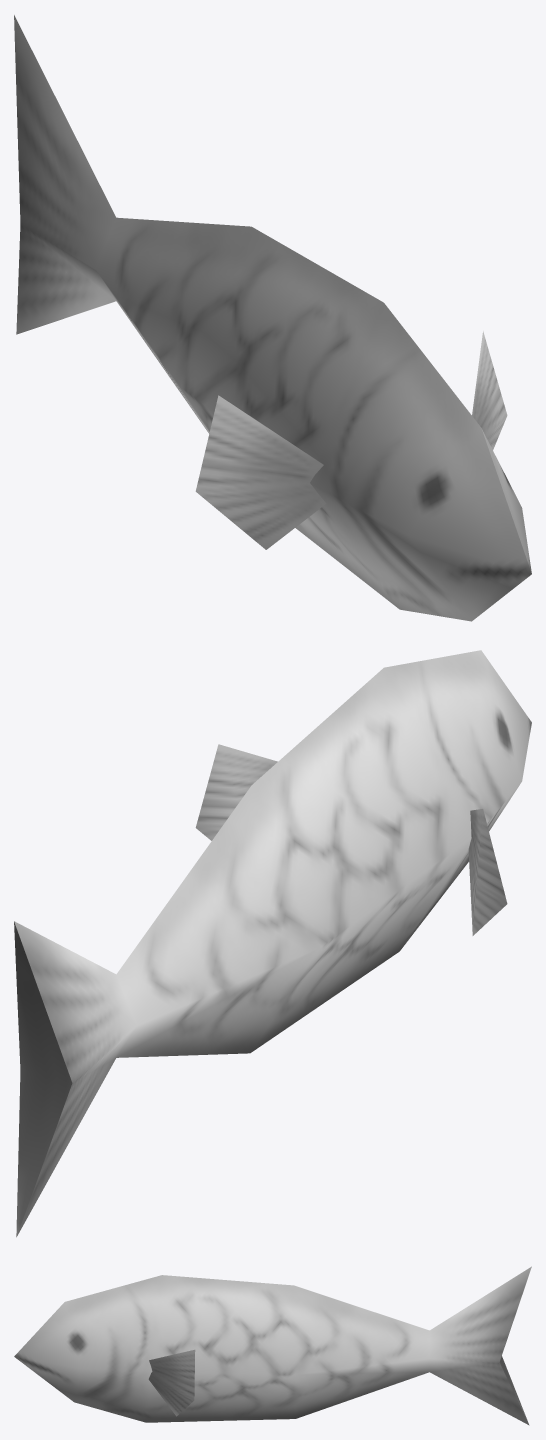
The model's file is fish.fbx.
3 renders of one model, top to bottom at view 1: azimuth 30°, elevation 25°; view 2: azimuth 150°, elevation 25°; view 3: azimuth 270°, elevation 25°, orthographic. The views are drawn at different scales.
Parts seen in each view (by area): view 1: fish; view 2: fish; view 3: fish.
Part boxes in pixels (box(x1,y1,x2,y2)): fish: box(14, 15, 531, 621); fish: box(14, 650, 531, 1237); fish: box(14, 1266, 531, 1425).
Bounding box in the file's own units: 1.15 × 1.13 × 3.32.
Materials: 1 (1 with a texture image).
